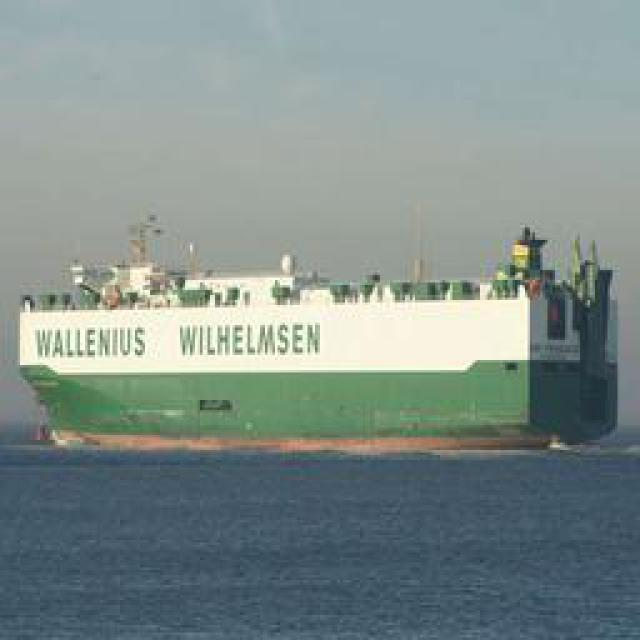Ship: (17, 222, 617, 432)
